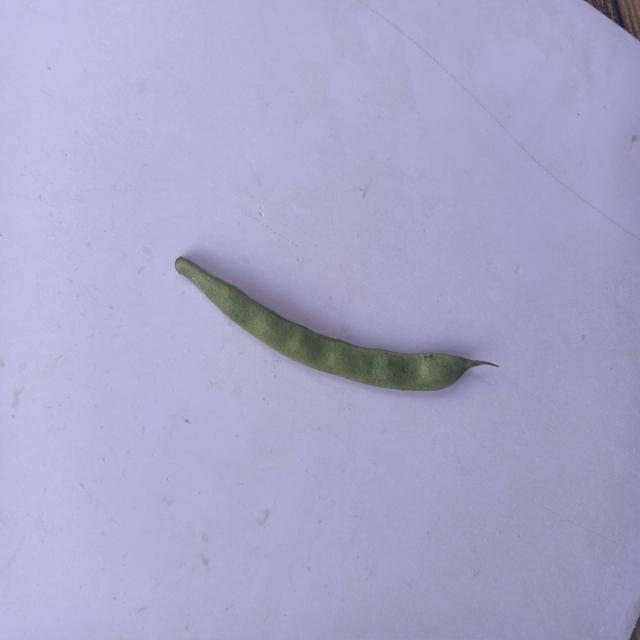Beans: (155, 222, 504, 442)
